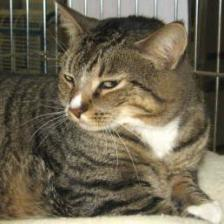cat: (46, 2, 195, 134)
